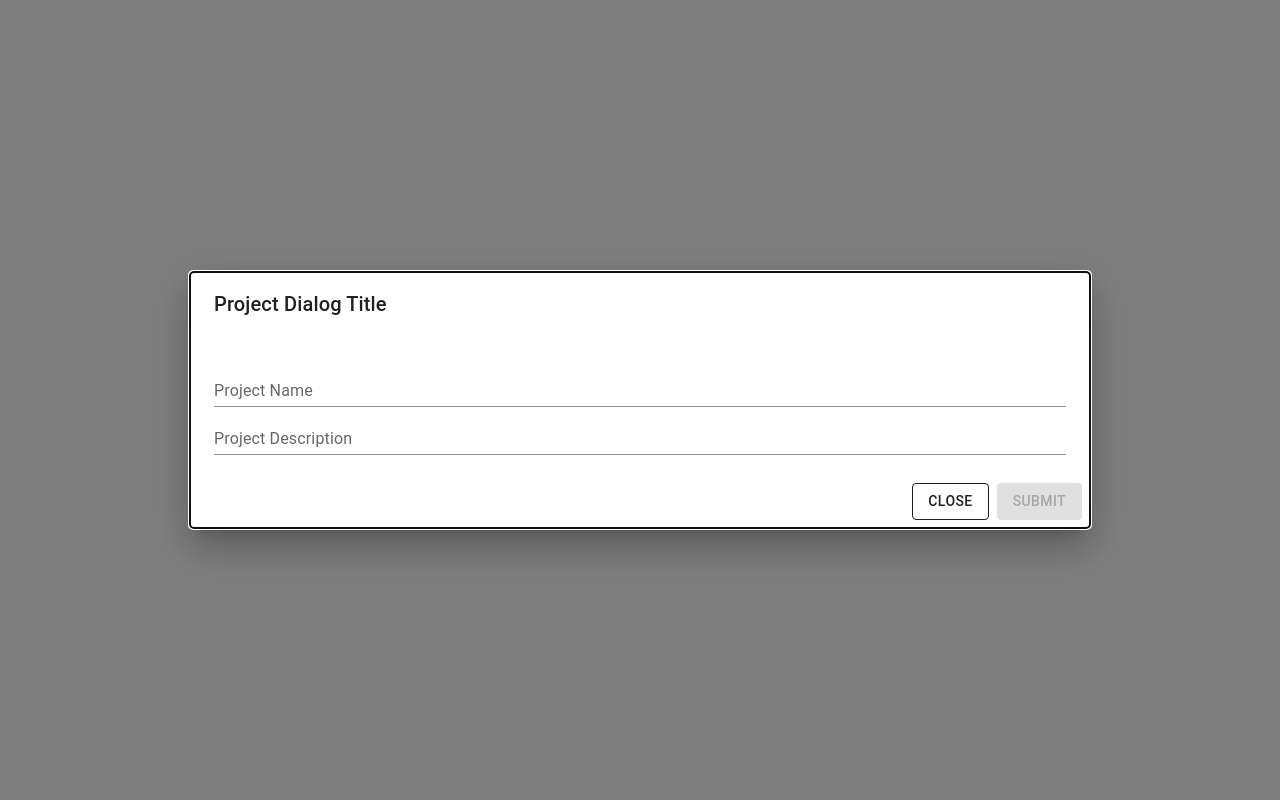
Scenario: should show error mmessages if project submission fails
Click the field labelled "Project Name" at (640, 391), box [214, 375, 1066, 407]
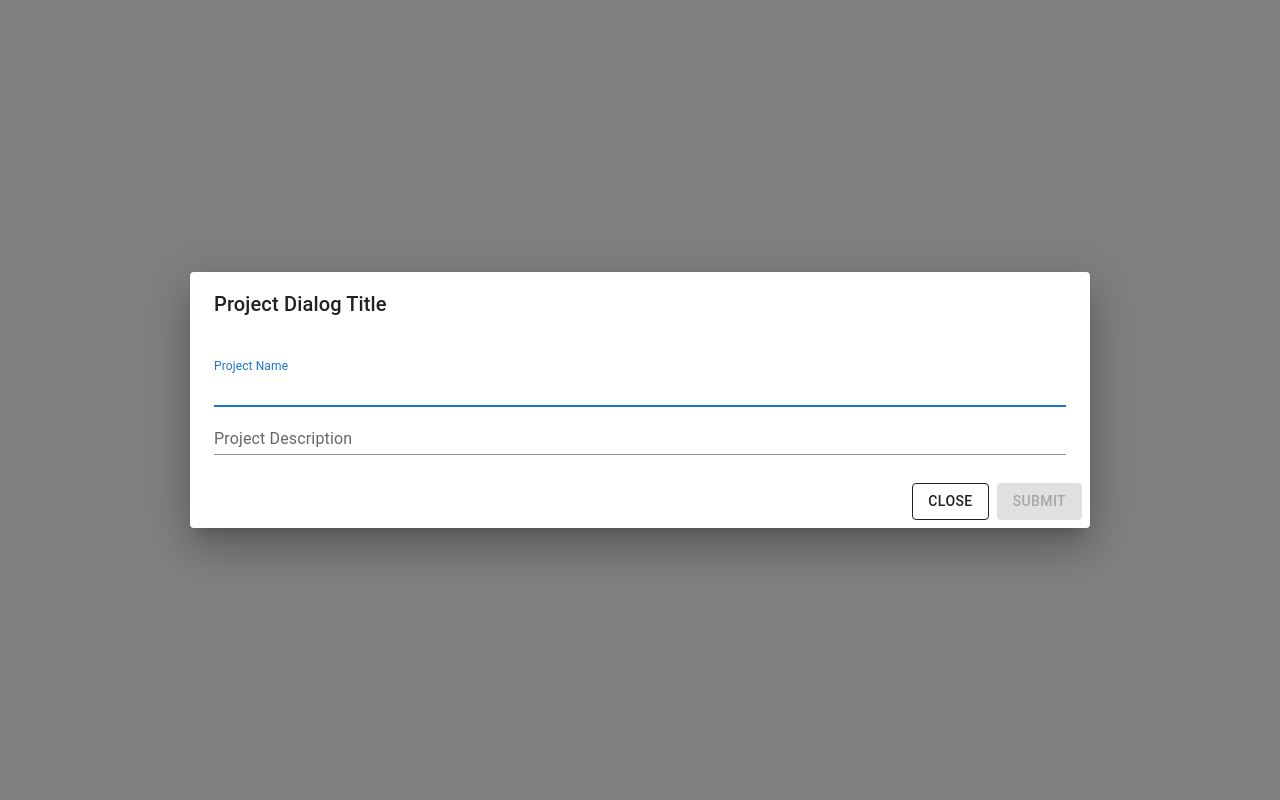
Type keys "Project Name"
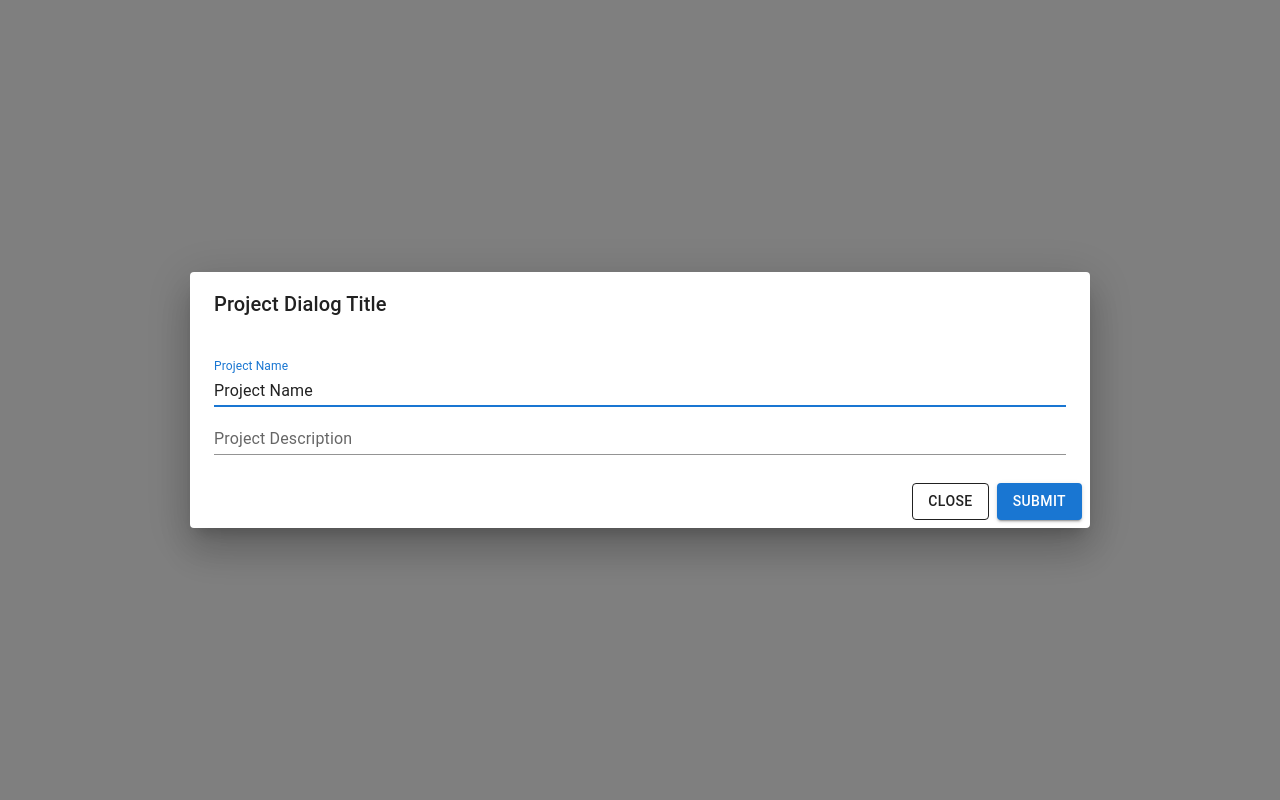
Click the text box labelled "Project Description" at (640, 439), box [214, 427, 1066, 450]
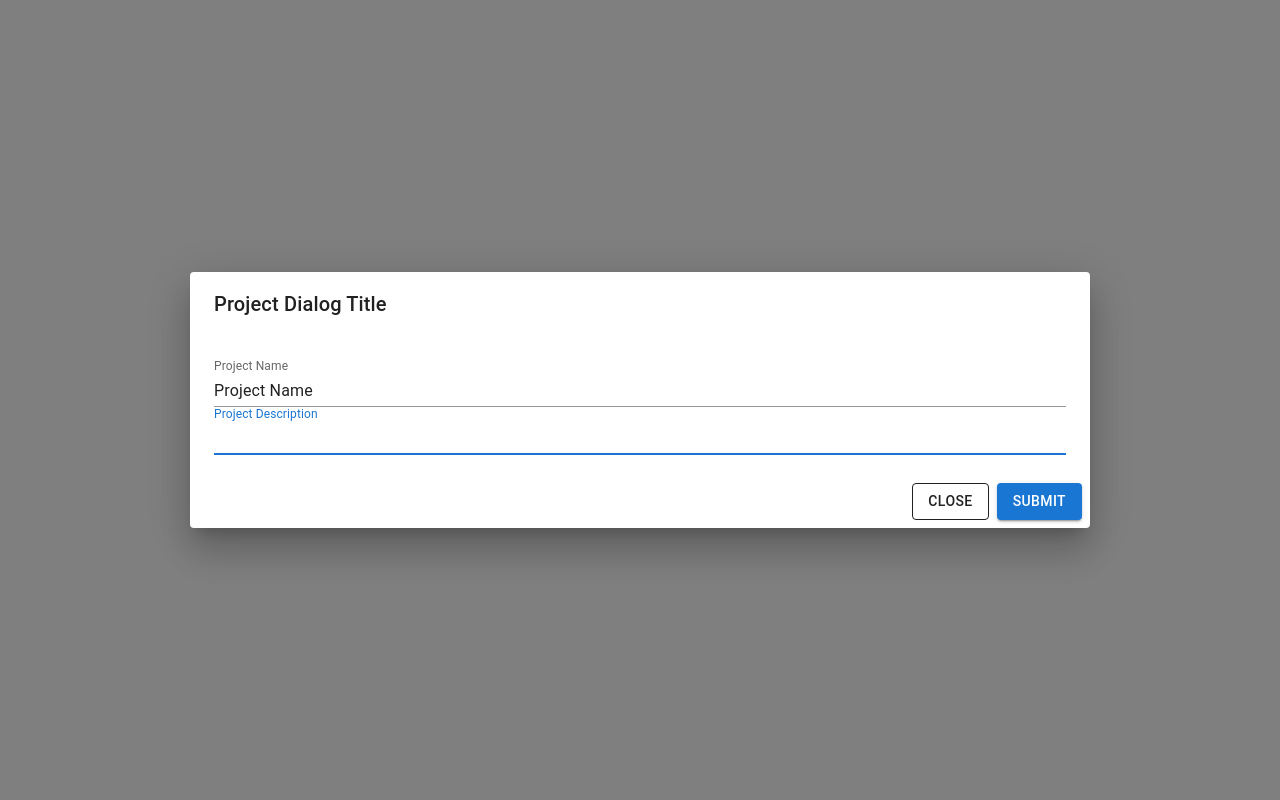
Type keys "Project Description"
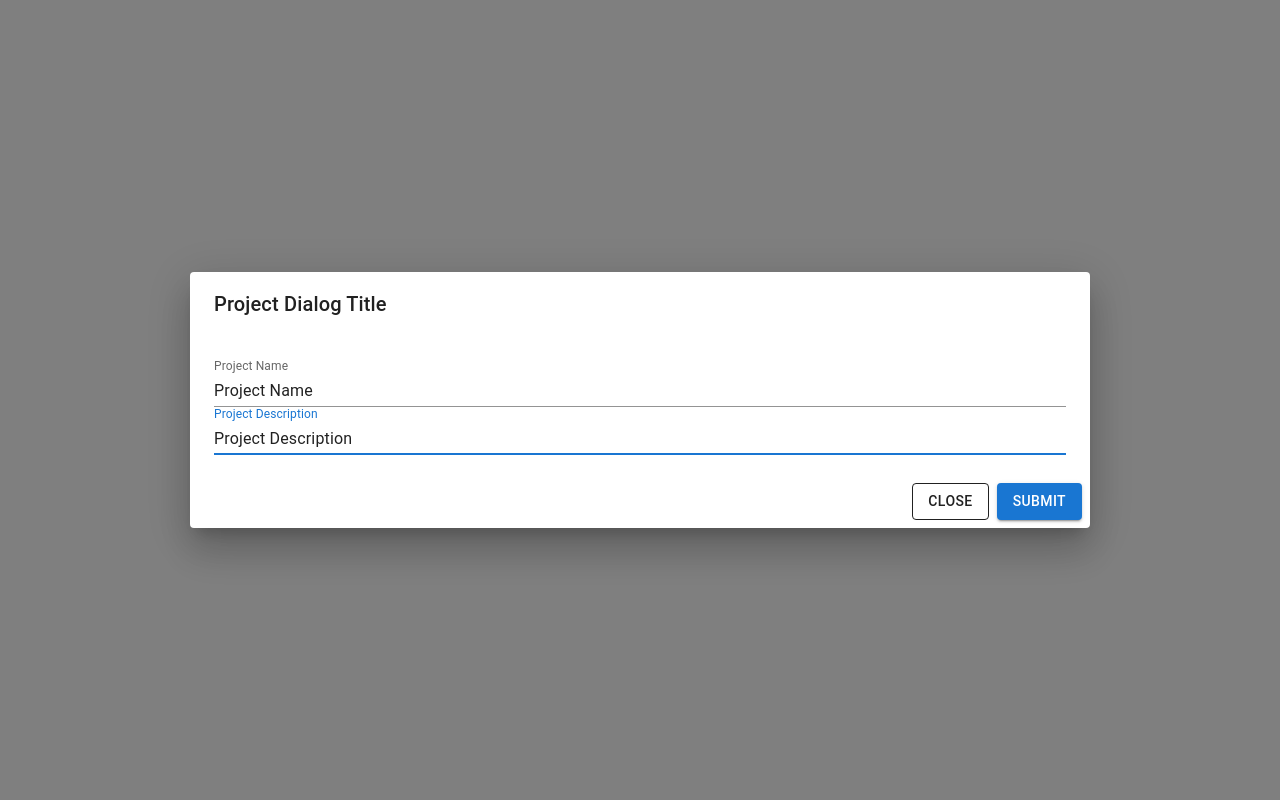
Result: the button "Submit" is enabled
Click the button "Submit" at (1039, 502), box [997, 483, 1082, 520]
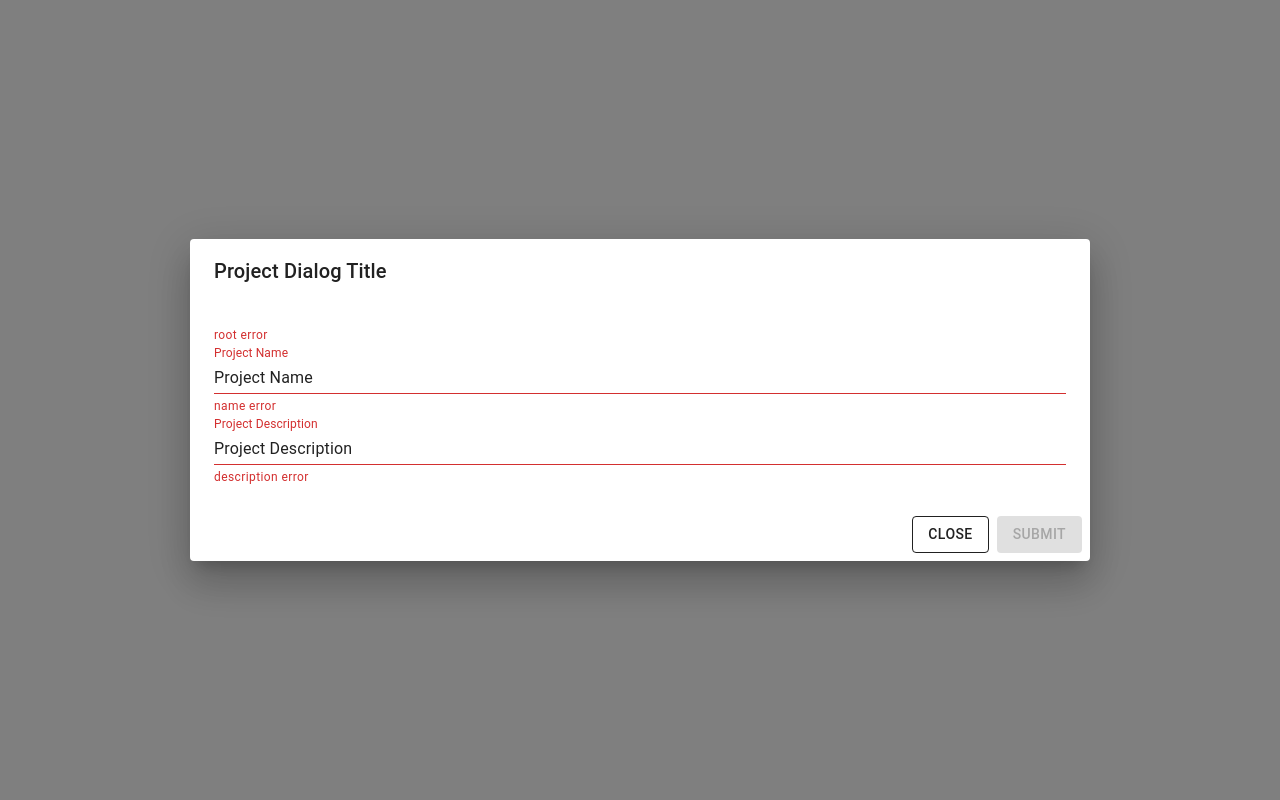
Result: the text "root error" is shown at [214, 328, 268, 342]
Result: the text "name error" is shown at [214, 399, 276, 413]
Result: the text "description error" is shown at [214, 470, 309, 484]
